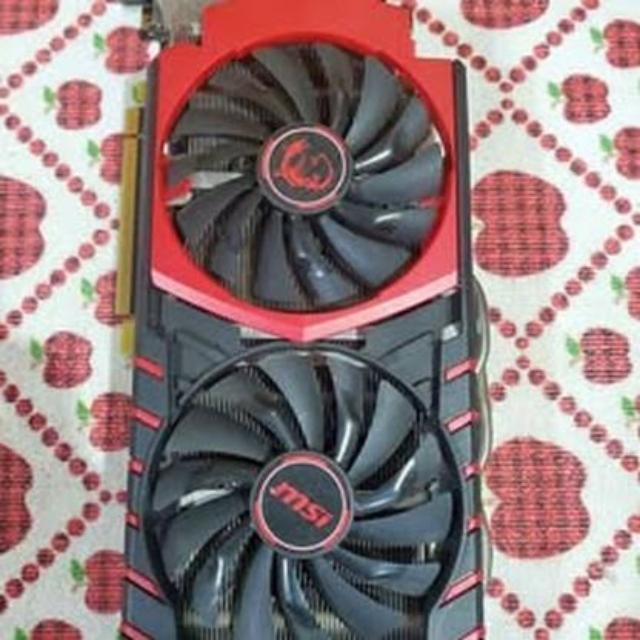GPU: (106, 0, 492, 640)
